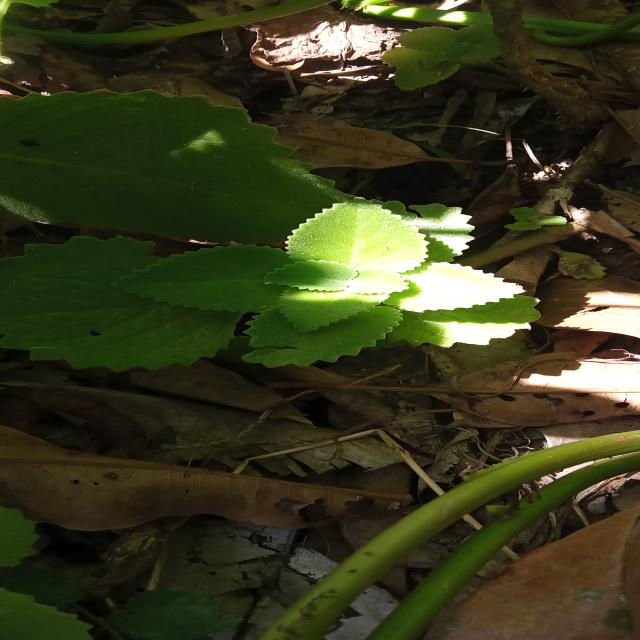Oregano: (135, 189, 554, 369)
